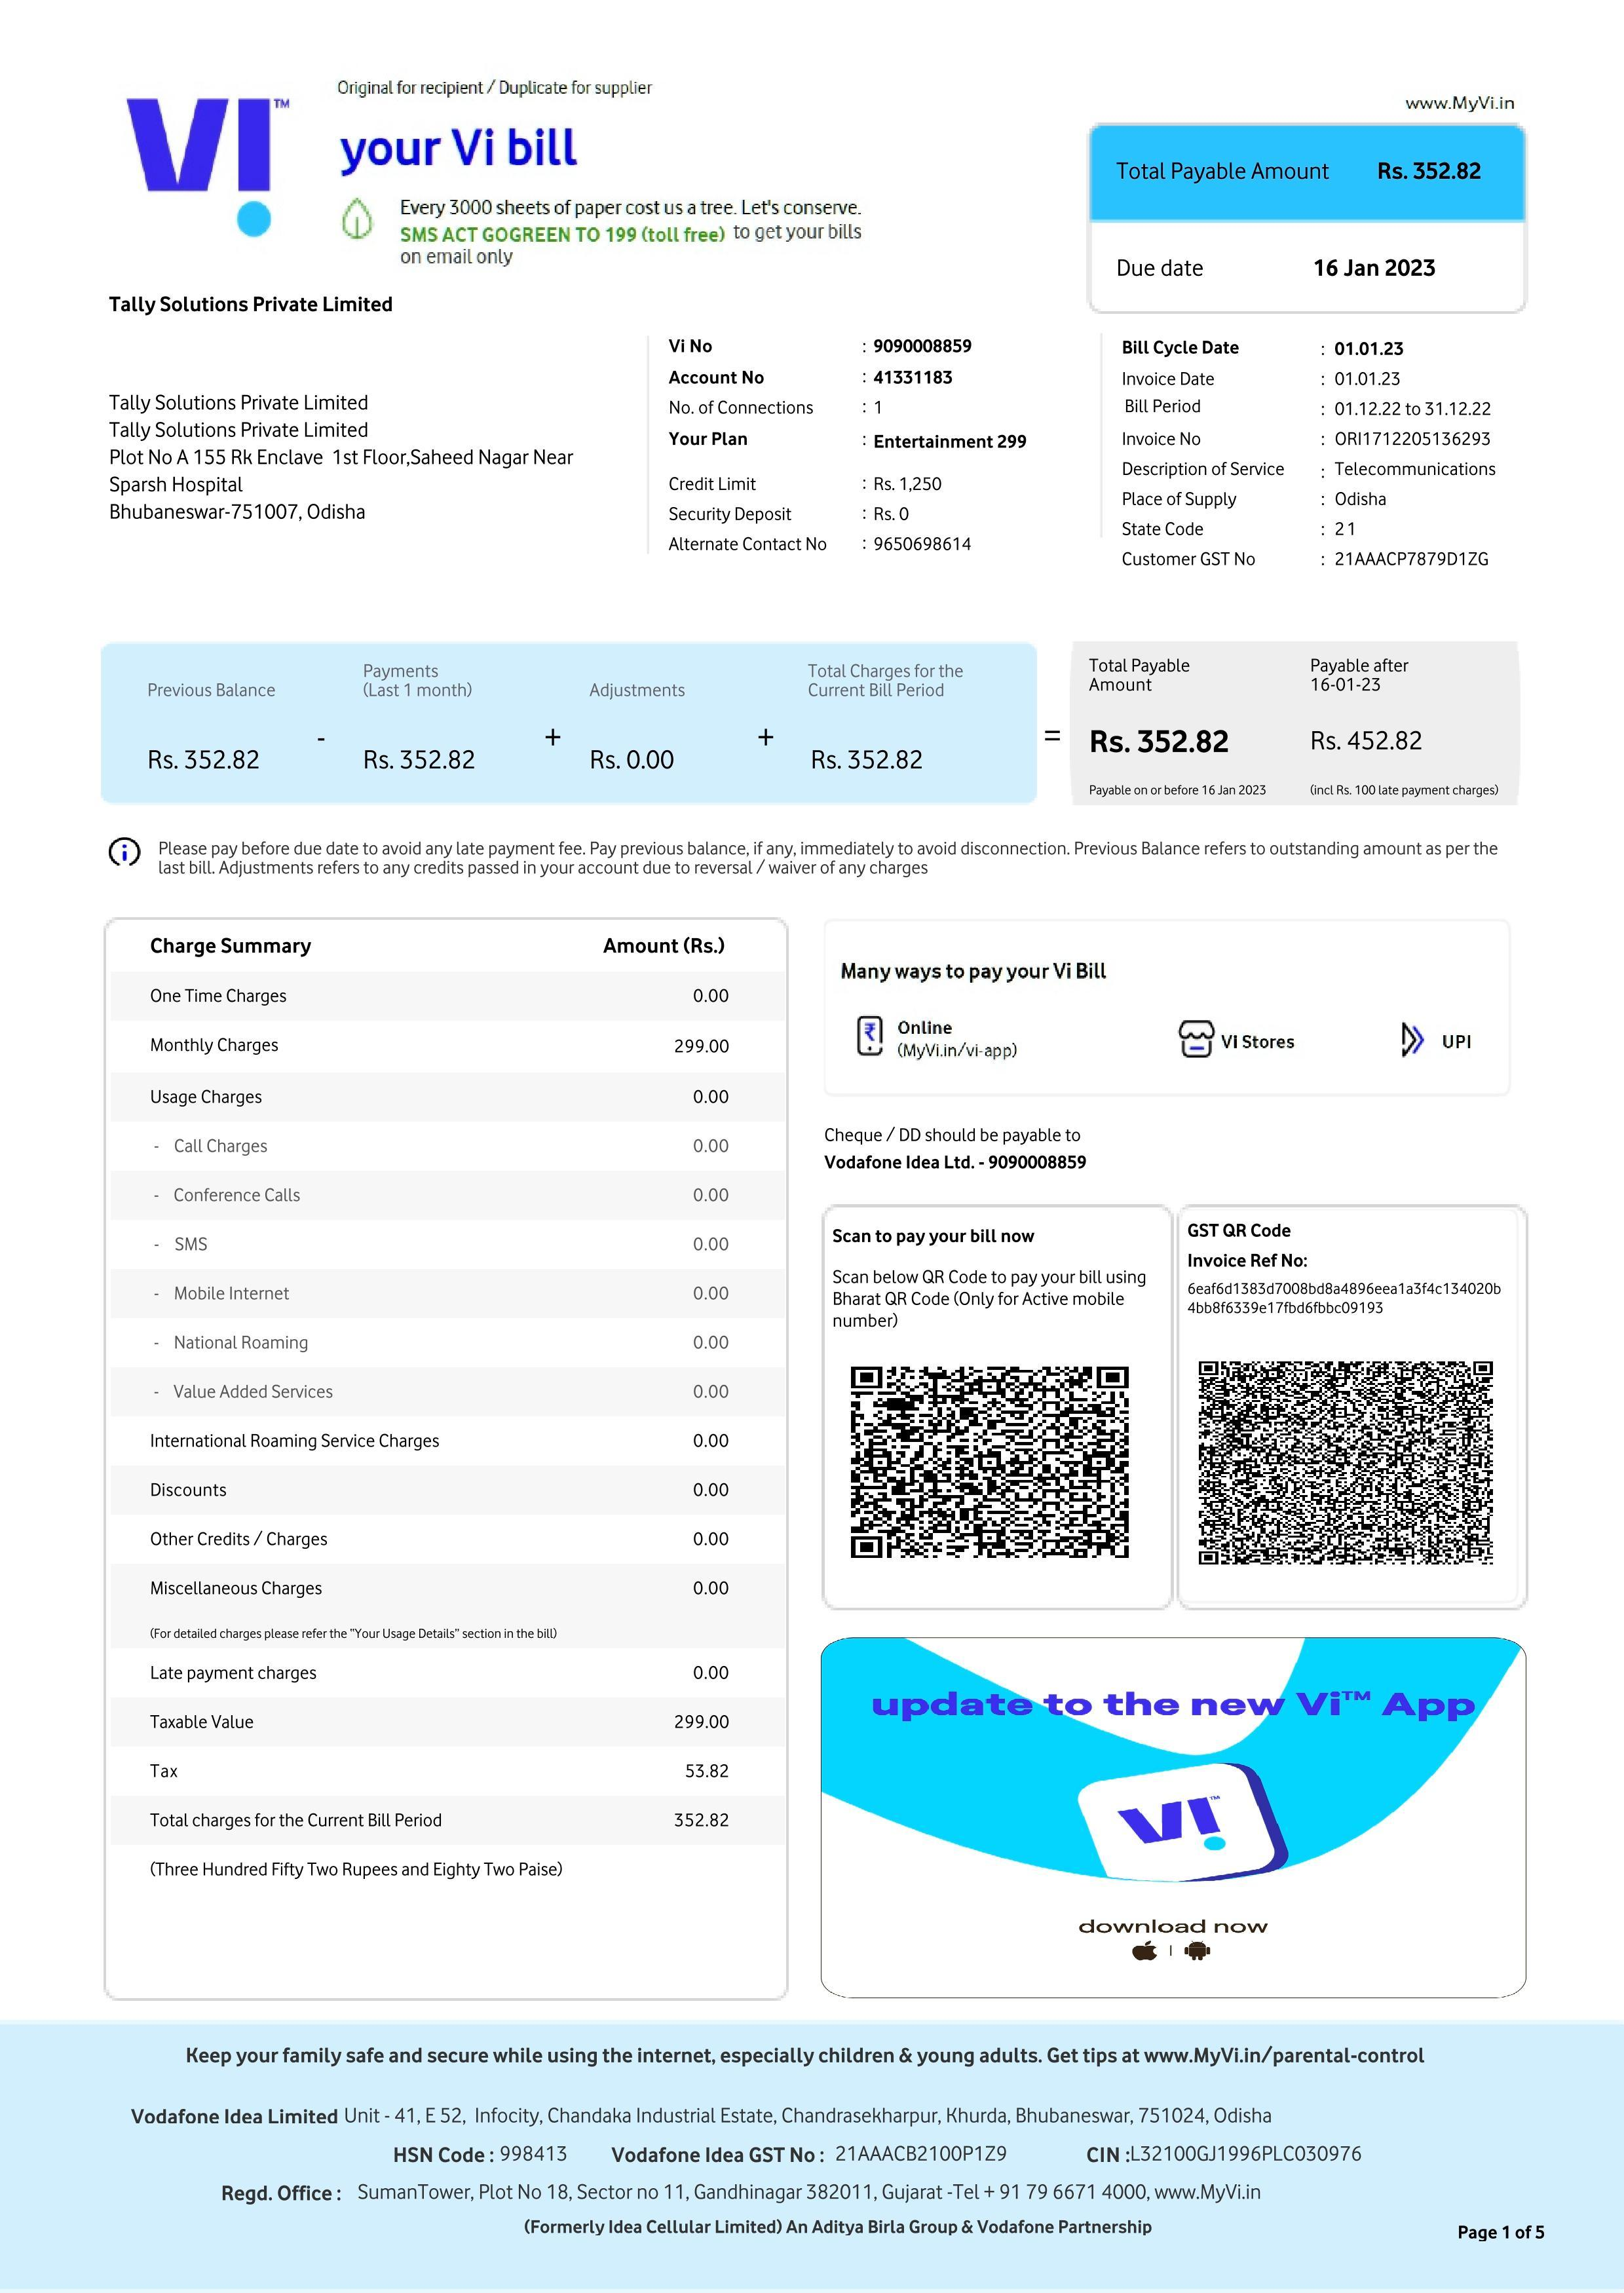InvoiceDate: (1330, 364, 1406, 394)
InvoiceNumber: (1327, 427, 1499, 453)
TotalAmount: (1367, 142, 1497, 195)
